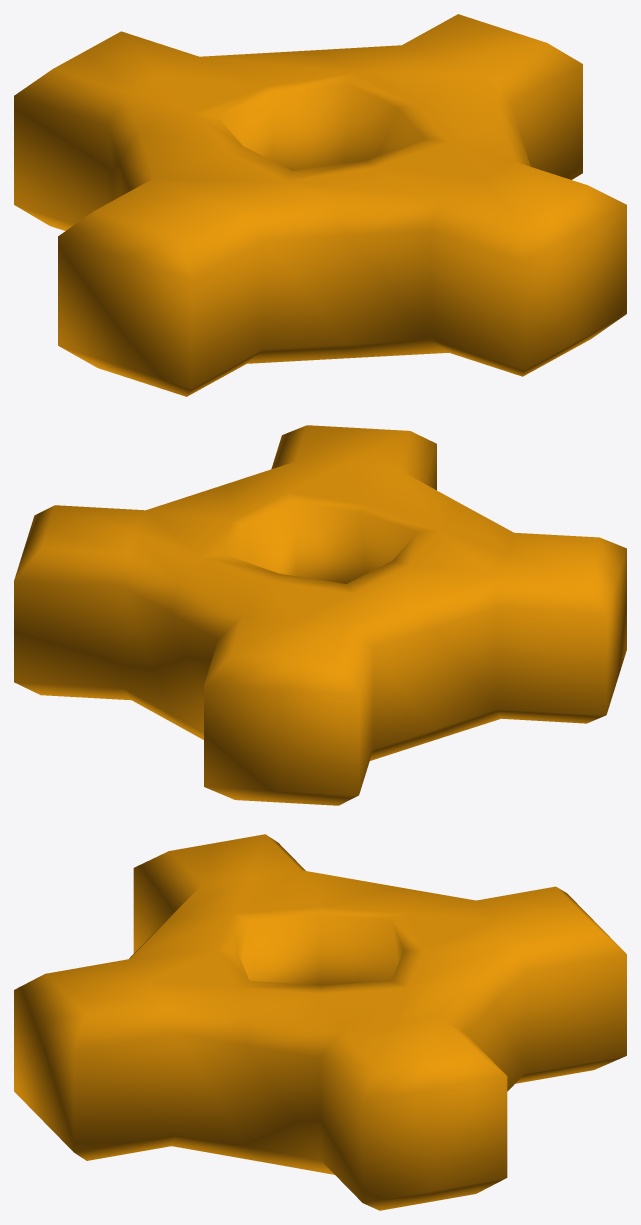
The model's file is Gear.fbx.
3 views of the same model, one above another, from view 1: azimuth 30°, elevation 25°; view 2: azimuth 150°, elevation 25°; view 3: azimuth 270°, elevation 25° (orthographic). The views are drawn at different scales.
Parts seen in each view (by area): view 1: Cylinder.001; view 2: Cylinder.001; view 3: Cylinder.001.
Boxes of the visible parts, bbox=[...] form: Cylinder.001: bbox=[14, 14, 626, 396]; Cylinder.001: bbox=[14, 425, 626, 805]; Cylinder.001: bbox=[14, 834, 626, 1210].
Bounding box in the file's own units: 204 × 53 × 204.
